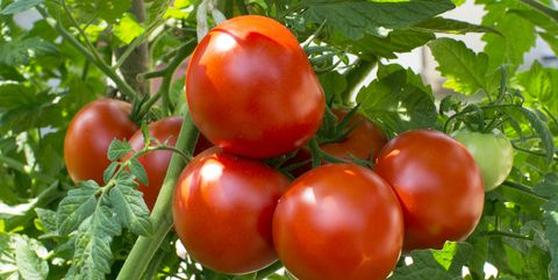tomato: (192, 20, 336, 166), (368, 126, 509, 258), (271, 158, 412, 280), (169, 148, 298, 275)
